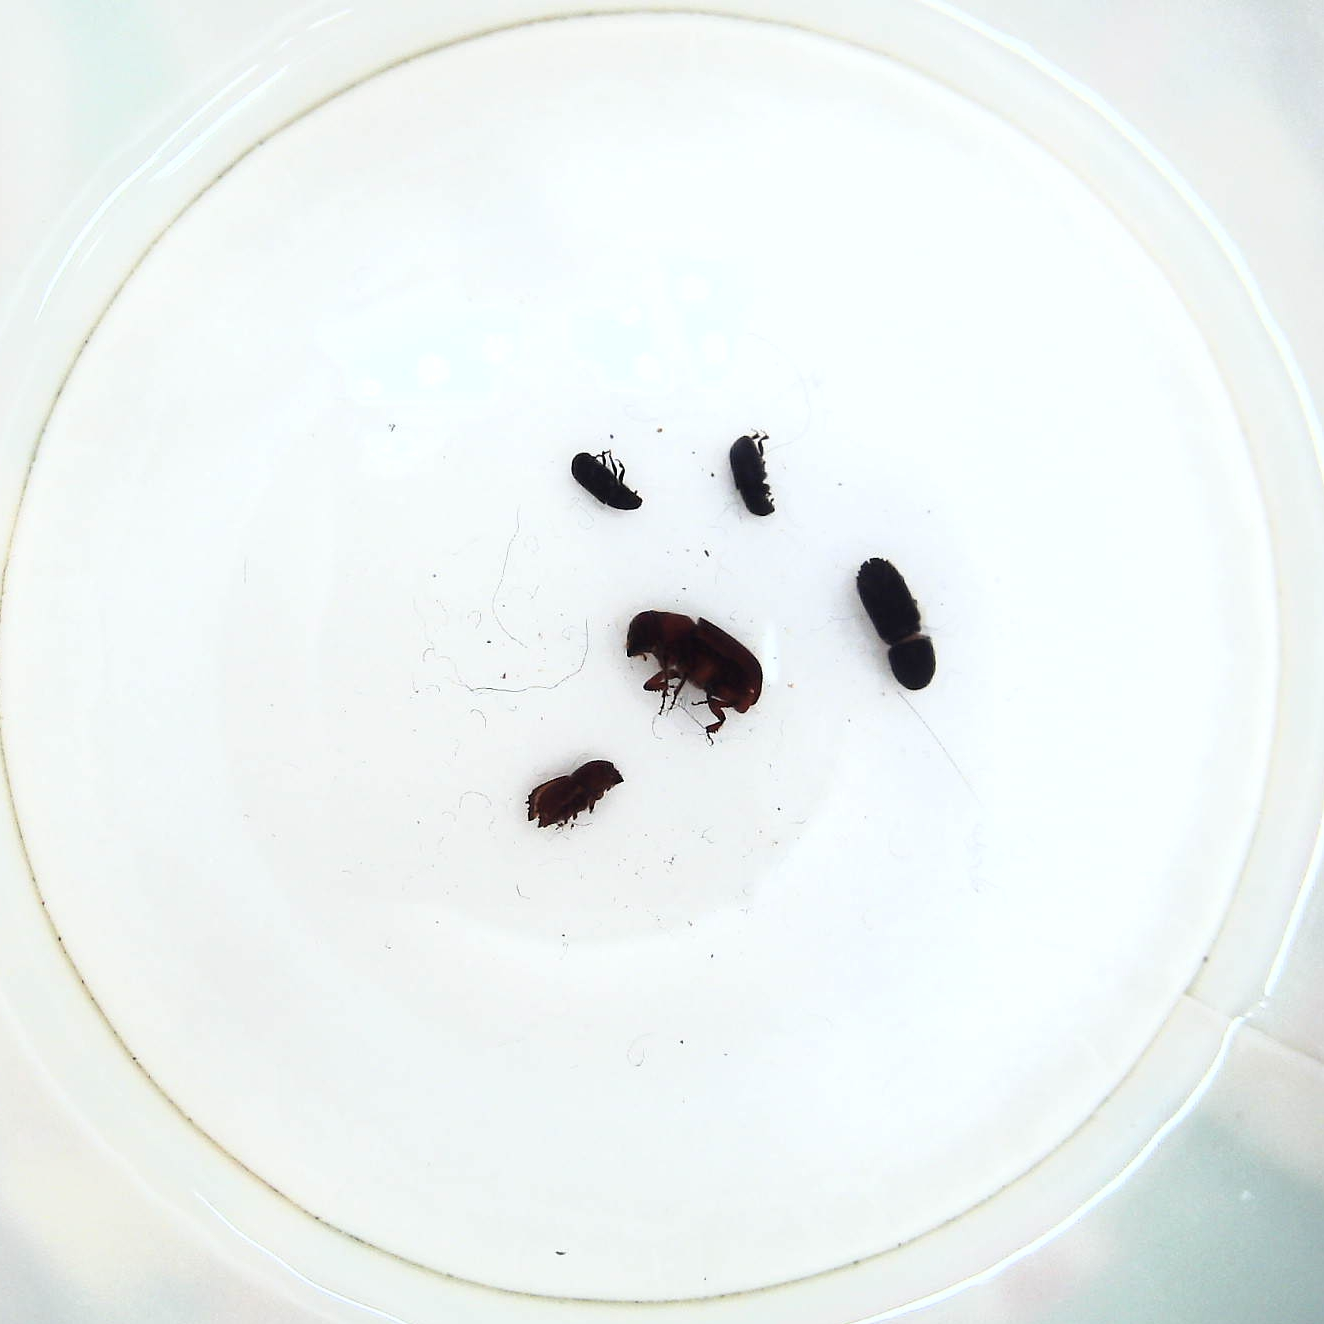Boerner: (851, 553, 945, 697)
Leconte: (622, 604, 769, 748)
armandi: (721, 430, 781, 524)
coleoptera: (566, 443, 649, 517)
linnaeus: (525, 757, 622, 834)
